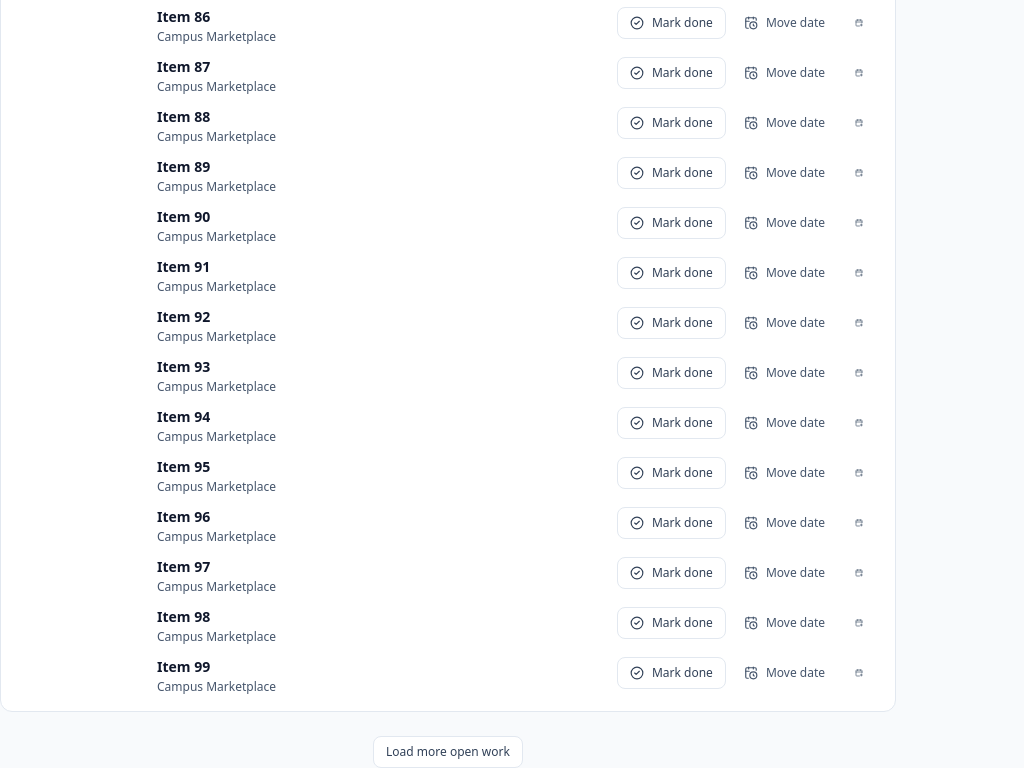
Test: OpenWorkPage — paging a long list › says the list is a page and brings the rest on request
(page scrolled)
Click the button "Load more open work": (448, 752) [373,736,523,767]
(page scrolled)
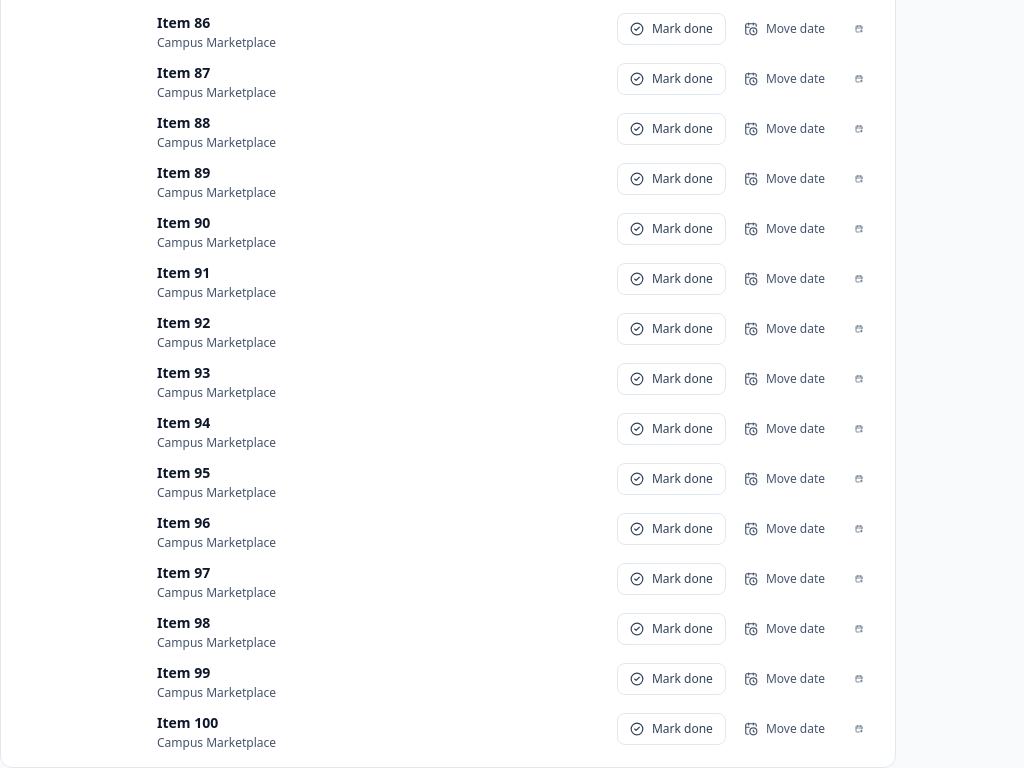
Result: the link "Item 100" is shown at [157,712,218,732]
Result: the button "Load more open work" is gone
